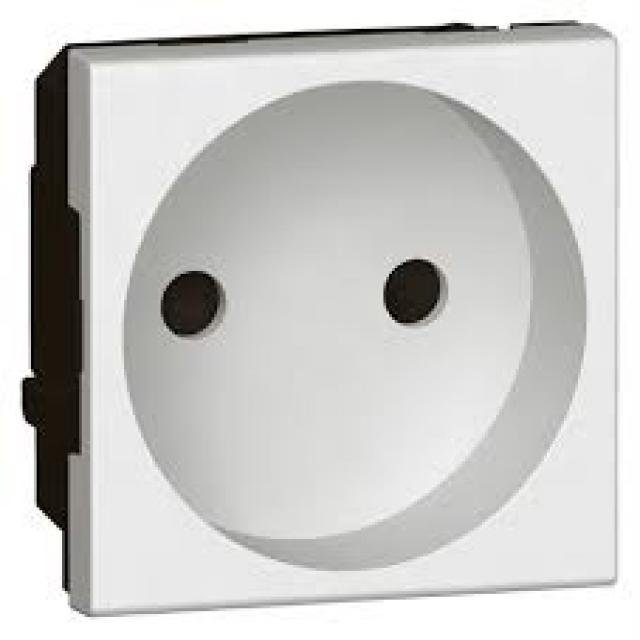typeb: (0, 6, 632, 637)
